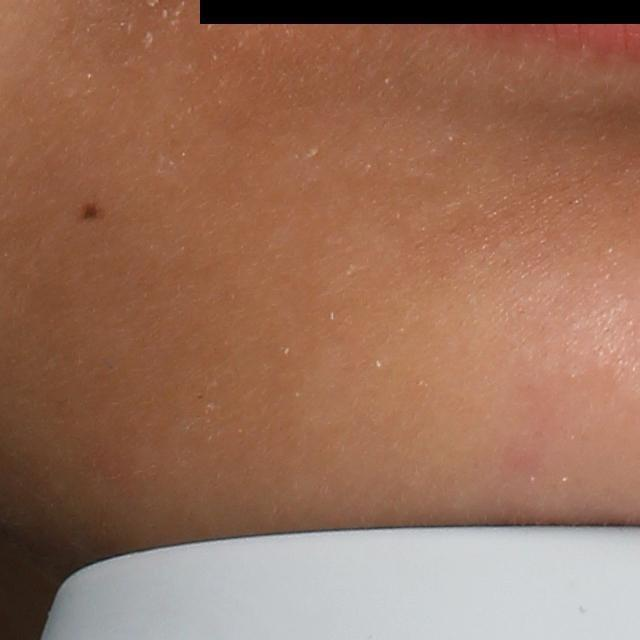nevus: (78, 191, 105, 224)
